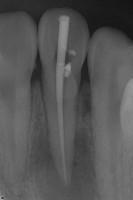Furcation Involvement: (29, 120, 98, 199)
